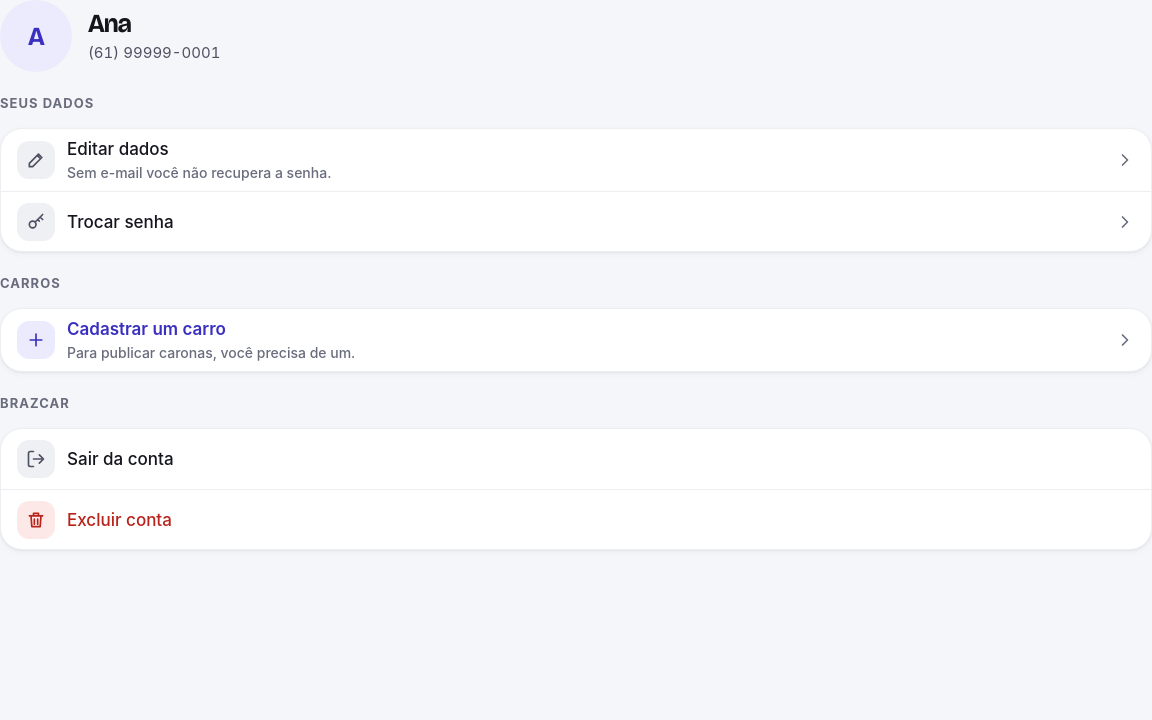
Test case: AccountPanel profile › shows the phone formatted and says it cannot be edited here
expect the text "(61) 99999-0001" is shown: met, box [88,42,220,64]
Click the button "Editar dados Sem e-mail você não recupera a senha.".
click(36, 160)  # box [1,129,1151,191]
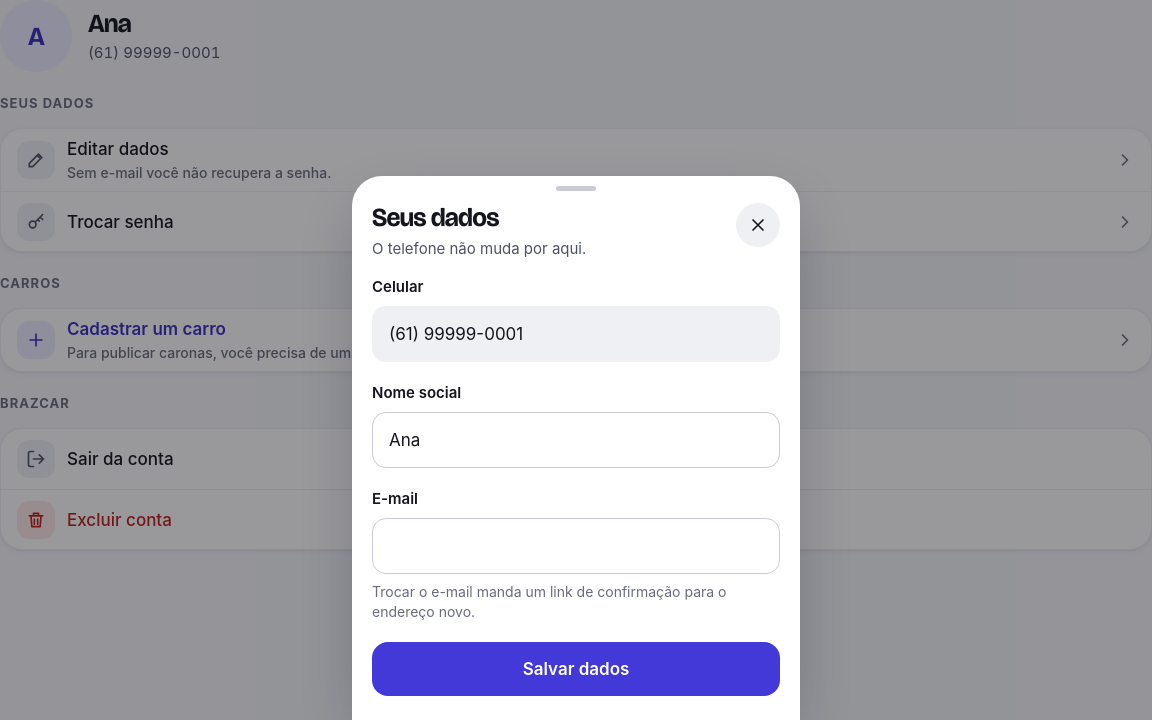
expect the text "O telefone não muda por aqui." is shown: met, box [372,238,586,260]
